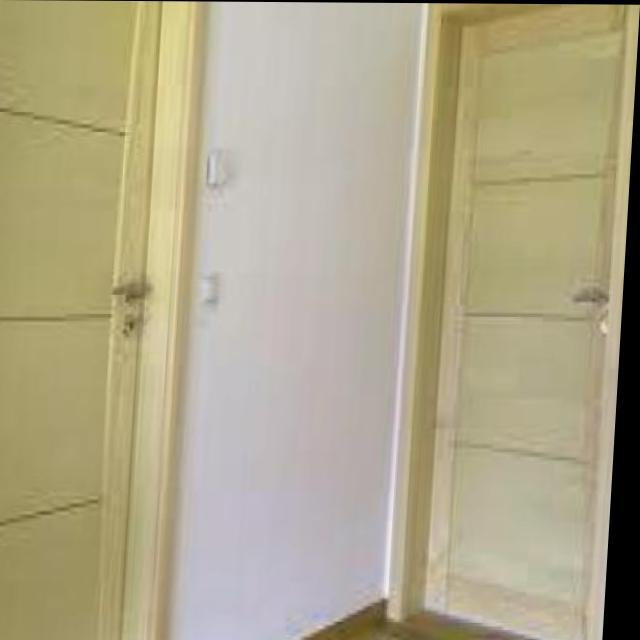door_handle: (106, 269, 164, 312), (559, 284, 619, 313)
